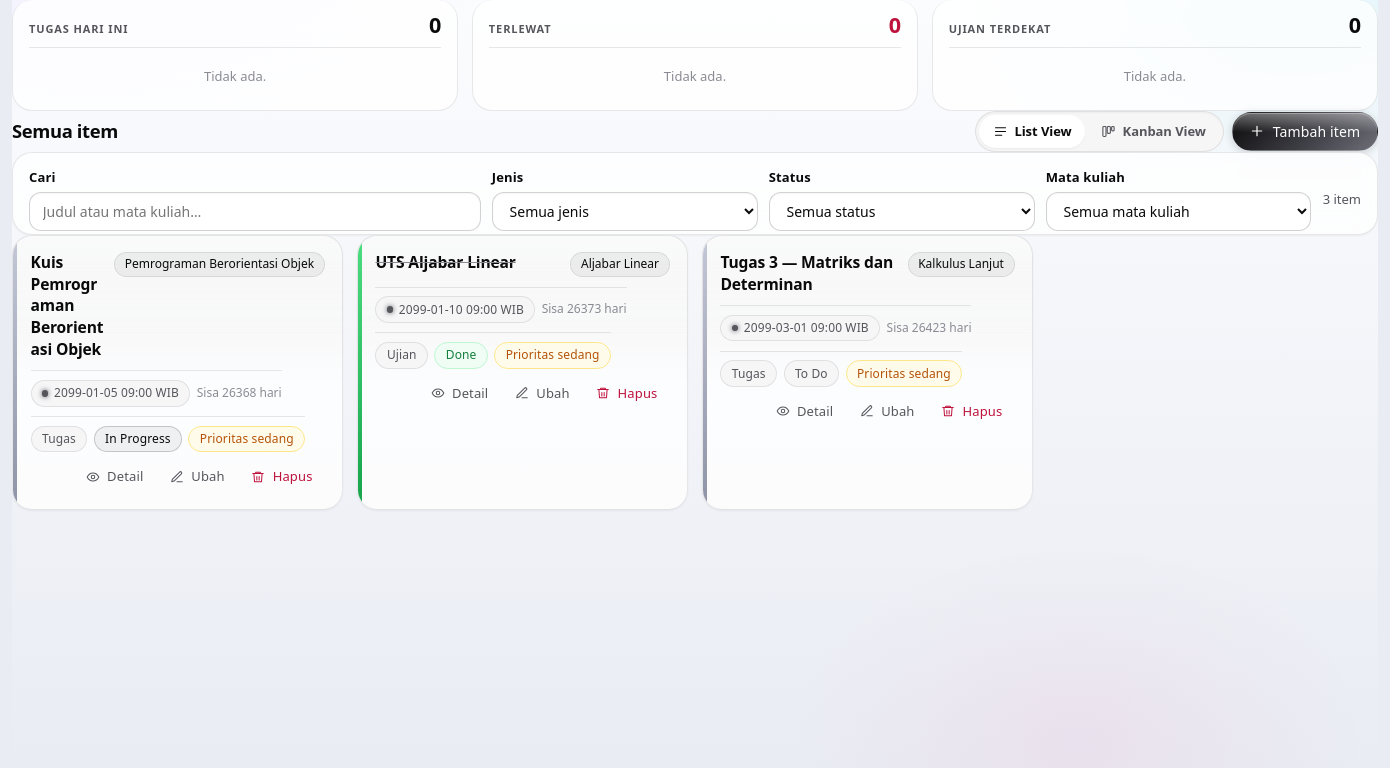
Test: dual view modes › toasts the XP reward and persists it when an item is marked Done
Step 1. Click the button "Kanban View" → x=1154, y=131, box [1088,115,1220,148]
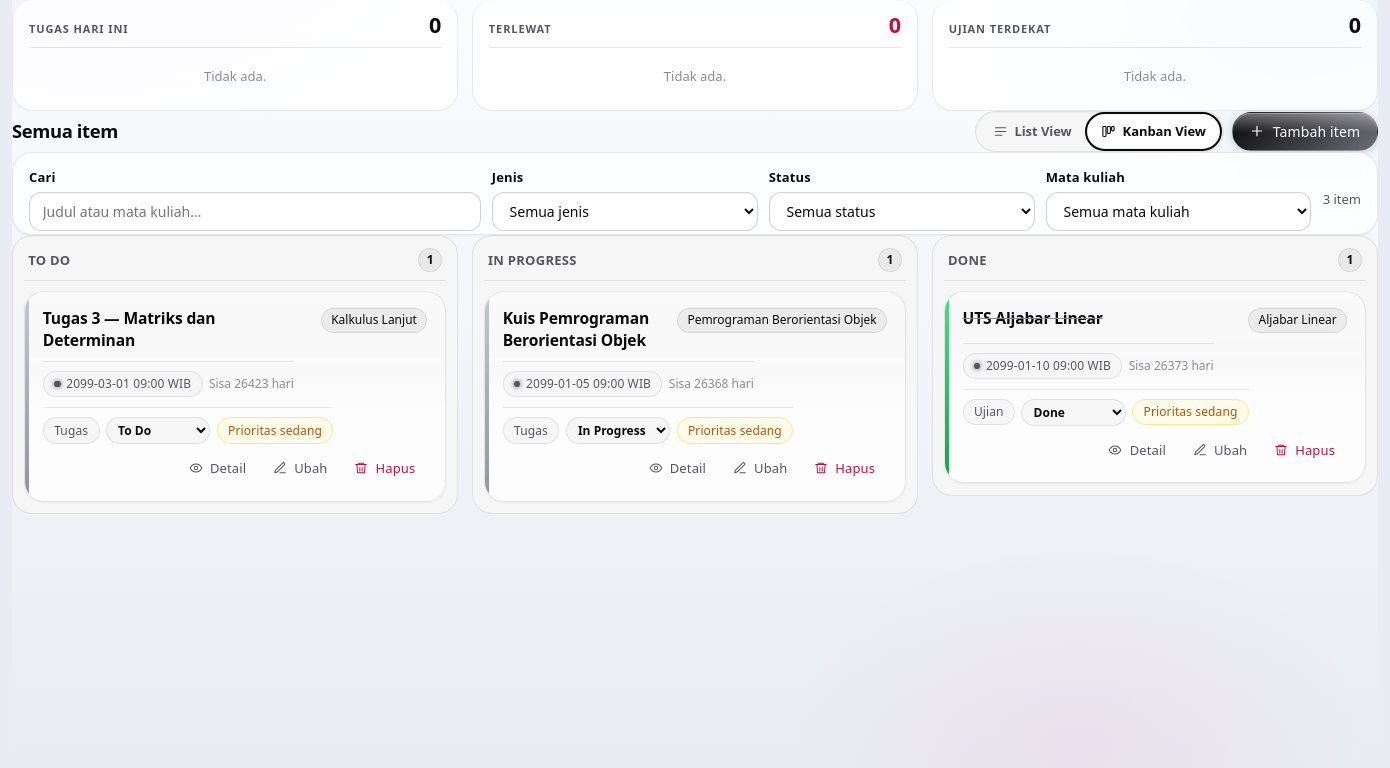
Step 2. Select "Done" in the dropdown named "Status untuk Tugas 3 — Matriks dan Determinan" → x=158, y=431, box [106,417,210,444]
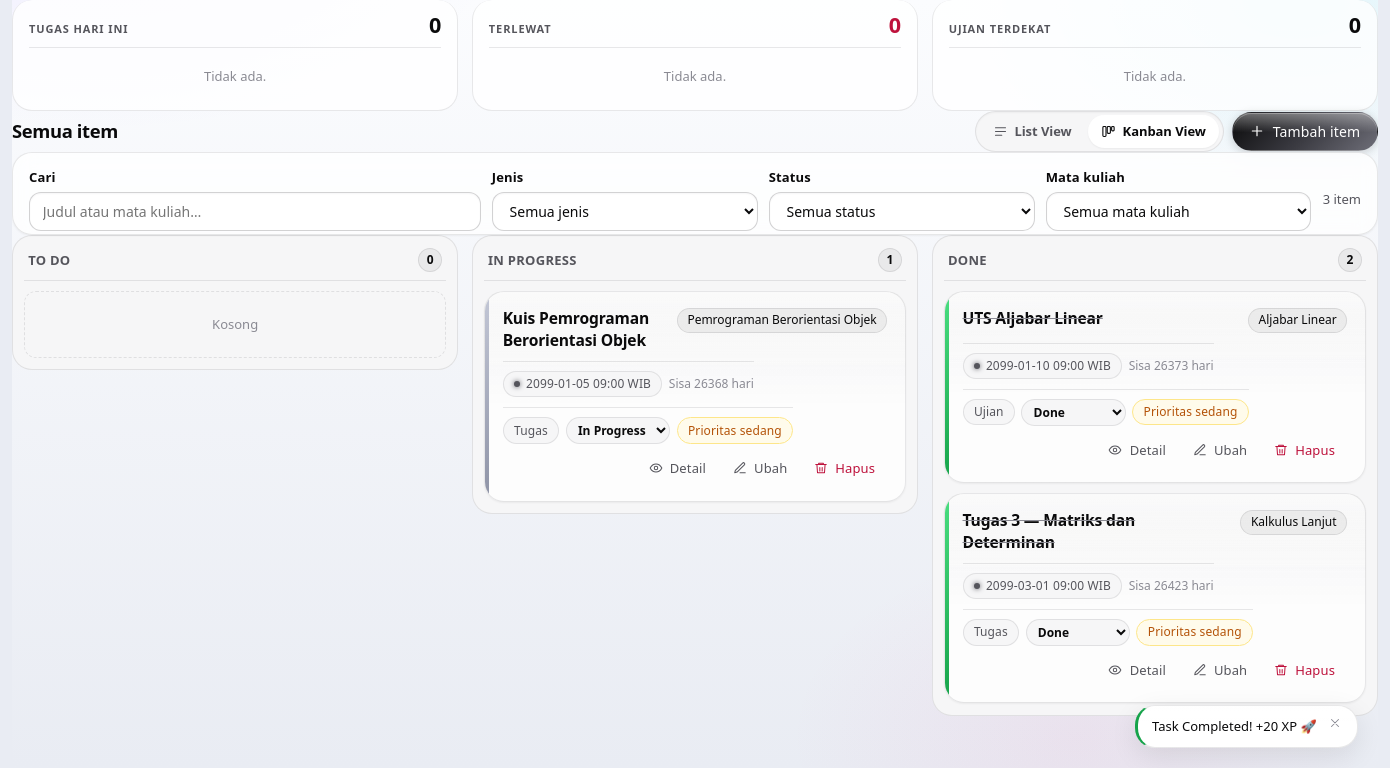
Expected: the text "Task Completed! +20 XP 🚀" is shown, [1152,716,1317,737]
